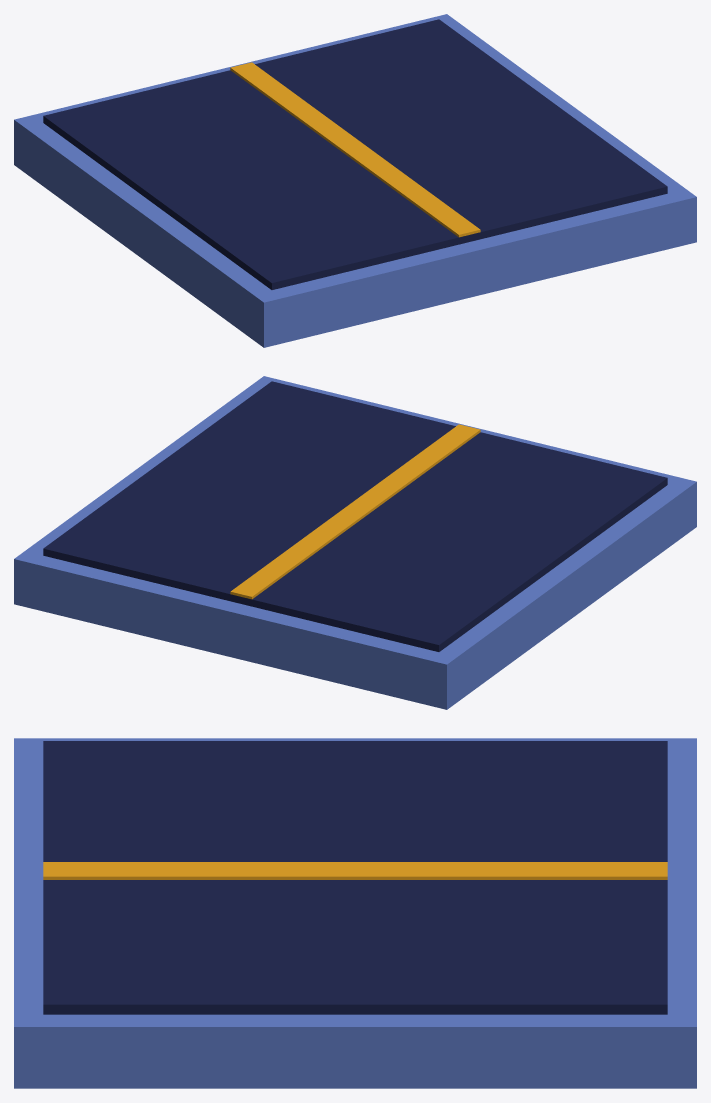
Rendered from discovery_terrace.obj.
The picture shows the model from 3 angles, top to bottom: view 1: azimuth 30°, elevation 25°; view 2: azimuth 150°, elevation 25°; view 3: azimuth 270°, elevation 25°; orthographic projection. The views are drawn at different scales.
Parts seen in each view (by area): view 1: discovery_terrace; view 2: discovery_terrace; view 3: discovery_terrace.
Part boxes in pixels (box(x1,y1,x2,y2)): discovery_terrace: box(14, 14, 696, 347); discovery_terrace: box(14, 376, 696, 709); discovery_terrace: box(14, 738, 696, 1088).
Size of the model in its own units: 14 by 1.7 by 14.
